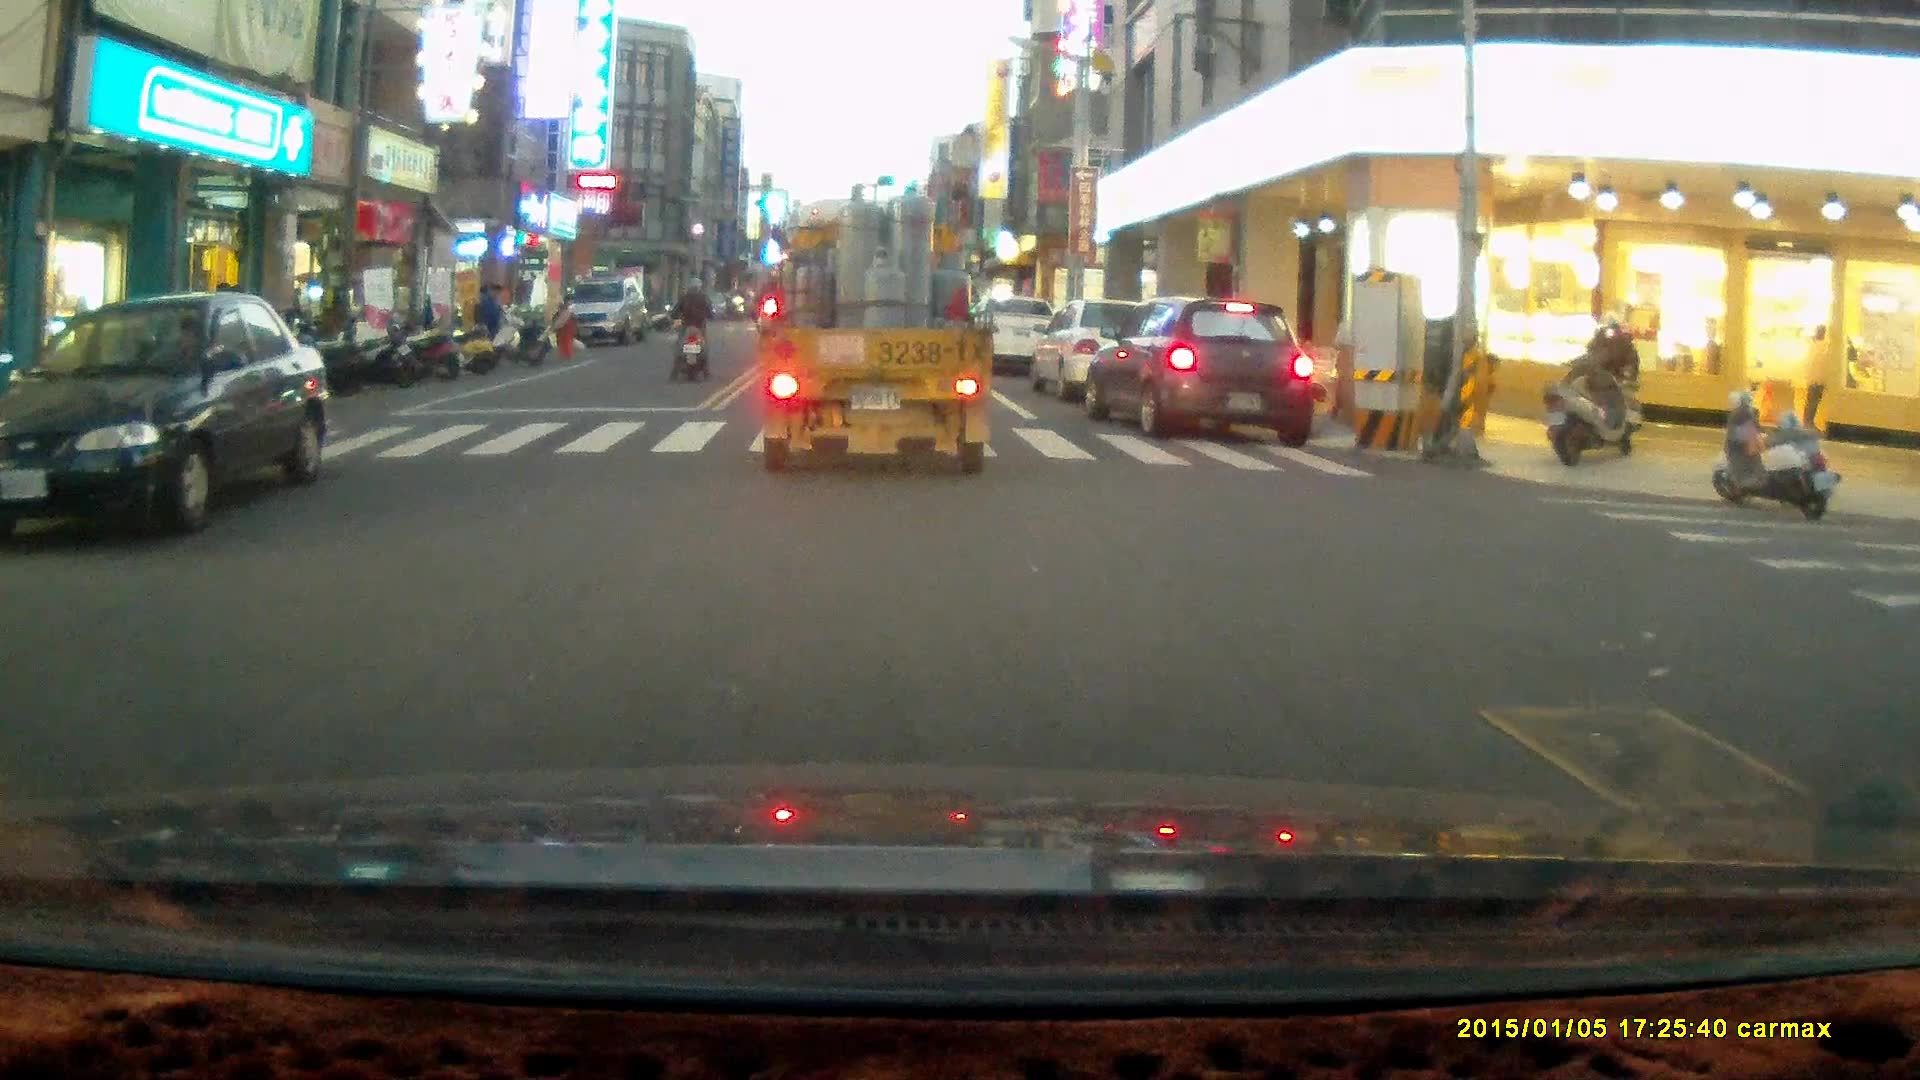pedestrian: (473, 282, 507, 364), (550, 292, 577, 364)
rider: (1545, 310, 1638, 456), (663, 277, 710, 386)
vehicle: (1, 291, 337, 544), (759, 181, 996, 481), (1088, 295, 1318, 445), (1036, 303, 1191, 409), (967, 296, 1063, 376), (565, 282, 656, 352)
